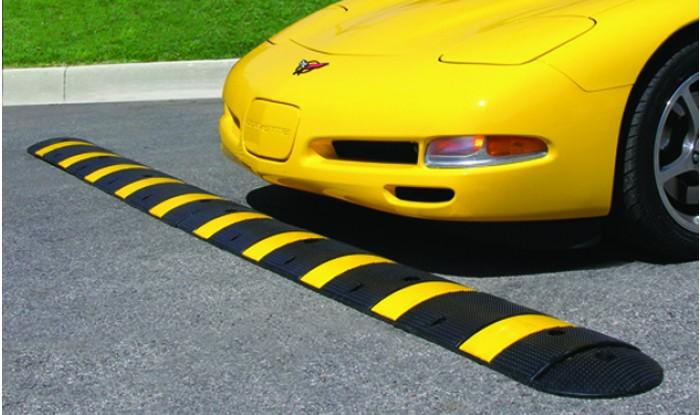Bump: (24, 134, 655, 397)
